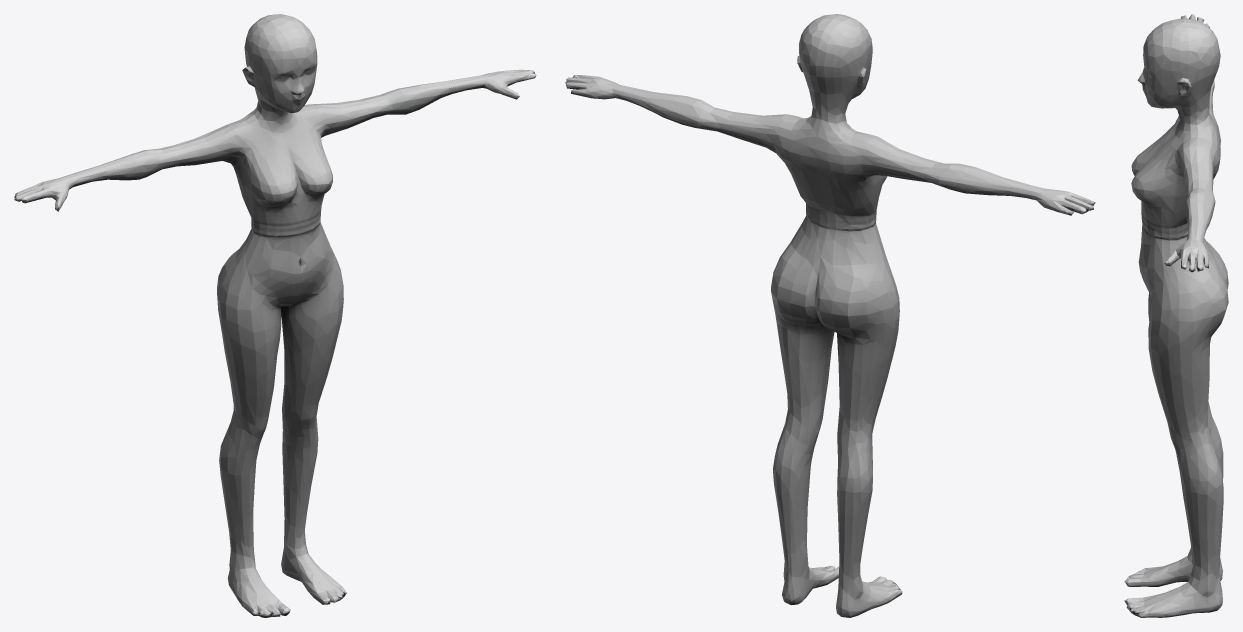
Rendered from female-a.glb.
3 views of the same model, side by side, from view 1: azimuth 30°, elevation 25°; view 2: azimuth 150°, elevation 25°; view 3: azimuth 270°, elevation 25° (orthographic).
Visible parts, largest first — view 1: world; view 2: world; view 3: world.
Boxes of the visible parts, x1,y1,x2,y2 form: world: [14, 14, 536, 617]; world: [565, 14, 1095, 617]; world: [1124, 14, 1228, 617].
Size of the model in its own units: 0.9524 by 1 by 0.1649.
Materials: 1 (1 with a texture image).
